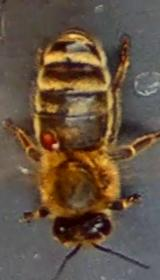varroa_mite: (36, 125, 70, 156)
